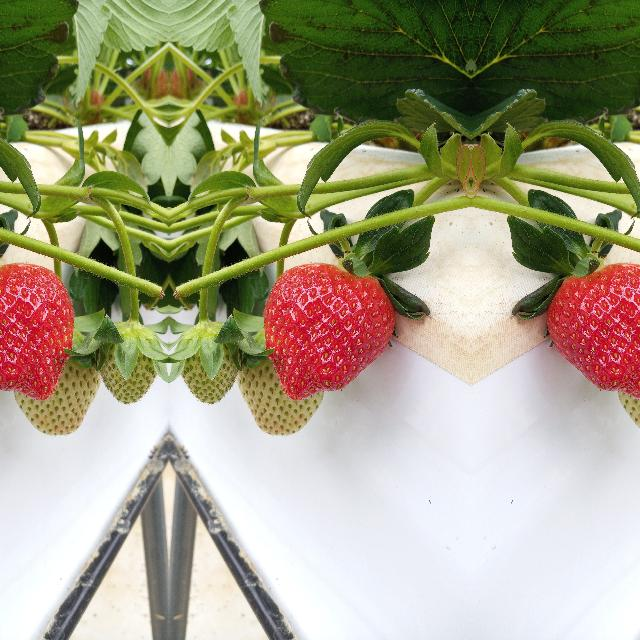Health_100: (261, 262, 395, 402), (546, 262, 640, 402), (0, 262, 75, 402)
Health_25: (243, 314, 307, 442), (29, 314, 93, 442), (184, 317, 238, 401), (98, 317, 152, 401)
